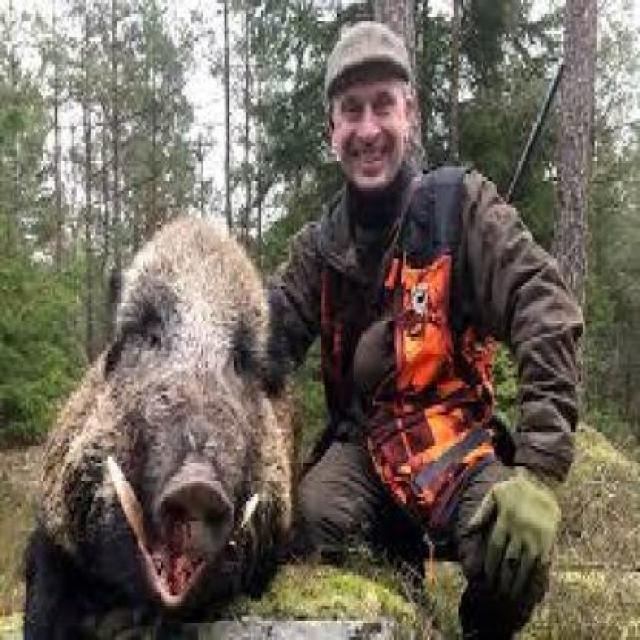wildboar: (13, 207, 299, 640)
